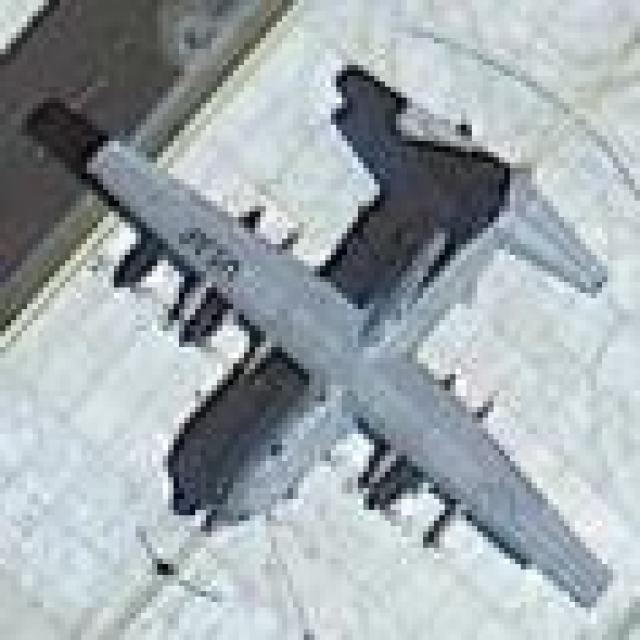C-130_TopDown: (16, 63, 618, 623)
